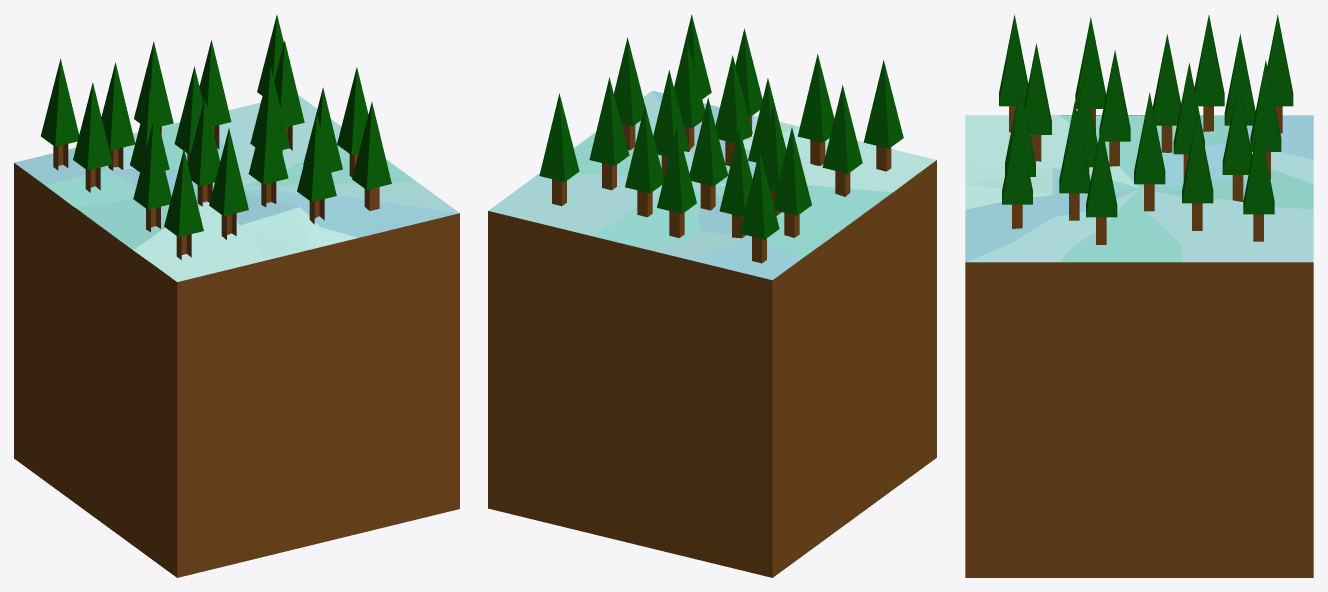
The model's file is FOREST_BARDUR.glb.
3 renders of one model, left to right at view 1: azimuth 30°, elevation 25°; view 2: azimuth 150°, elevation 25°; view 3: azimuth 270°, elevation 25°, orthographic. The views are drawn at different scales.
Visible parts, largest first — view 1: Forest_Bardur; view 2: Forest_Bardur; view 3: Forest_Bardur.
Part boxes in pixels (box(x1,y1,x2,y2)): Forest_Bardur: box(14, 15, 459, 577); Forest_Bardur: box(488, 14, 936, 577); Forest_Bardur: box(965, 14, 1313, 577).
Size of the model in its own units: 4.01 by 5.48 by 4.
Materials: 1 (1 with a texture image).
